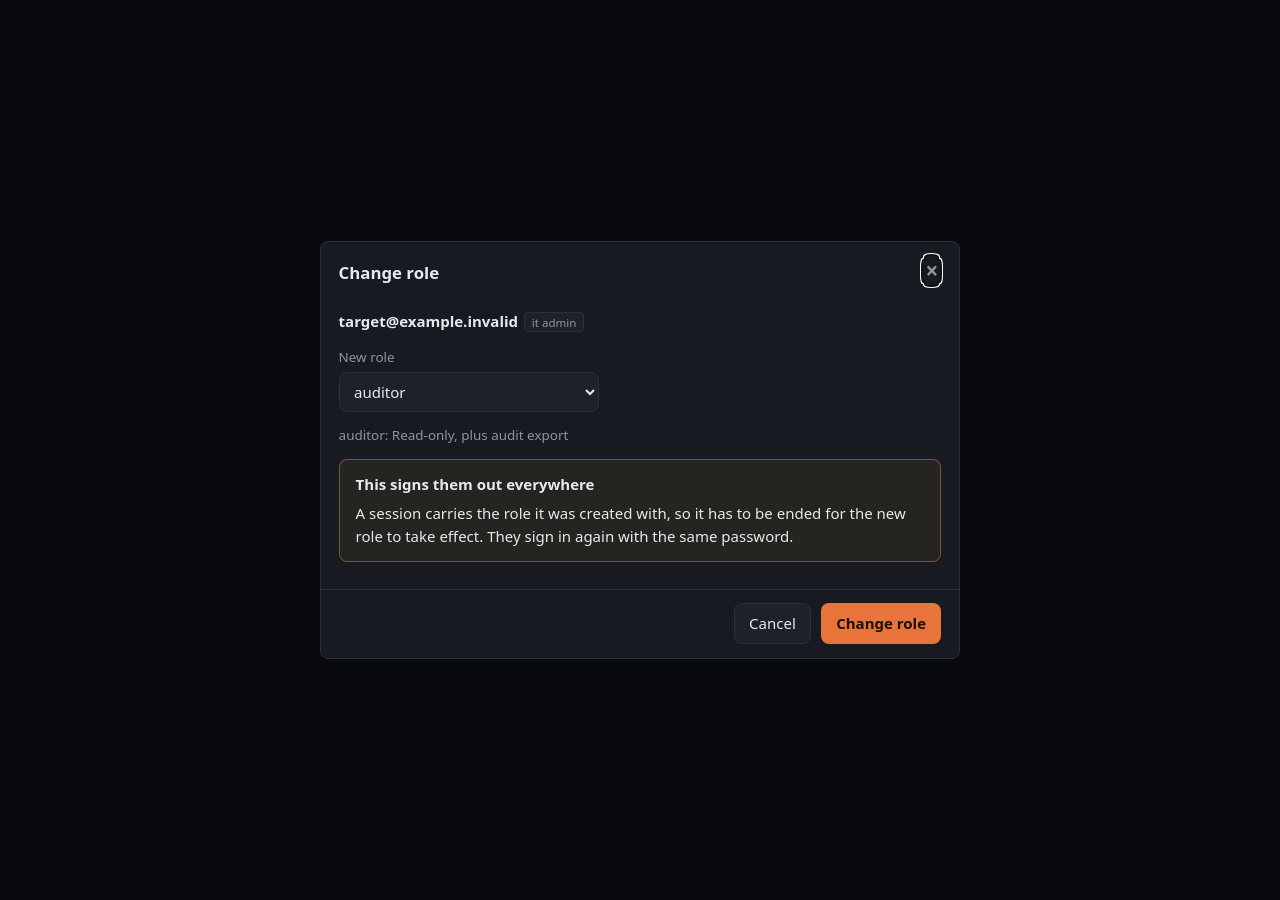
Test case: UserActionsDialog › change role › notes what promotion to super_admin grants
The image size is (1280, 900).
Select "super admin" in the dropdown labelled "New role" at (469, 392), box [339,372,599,412]
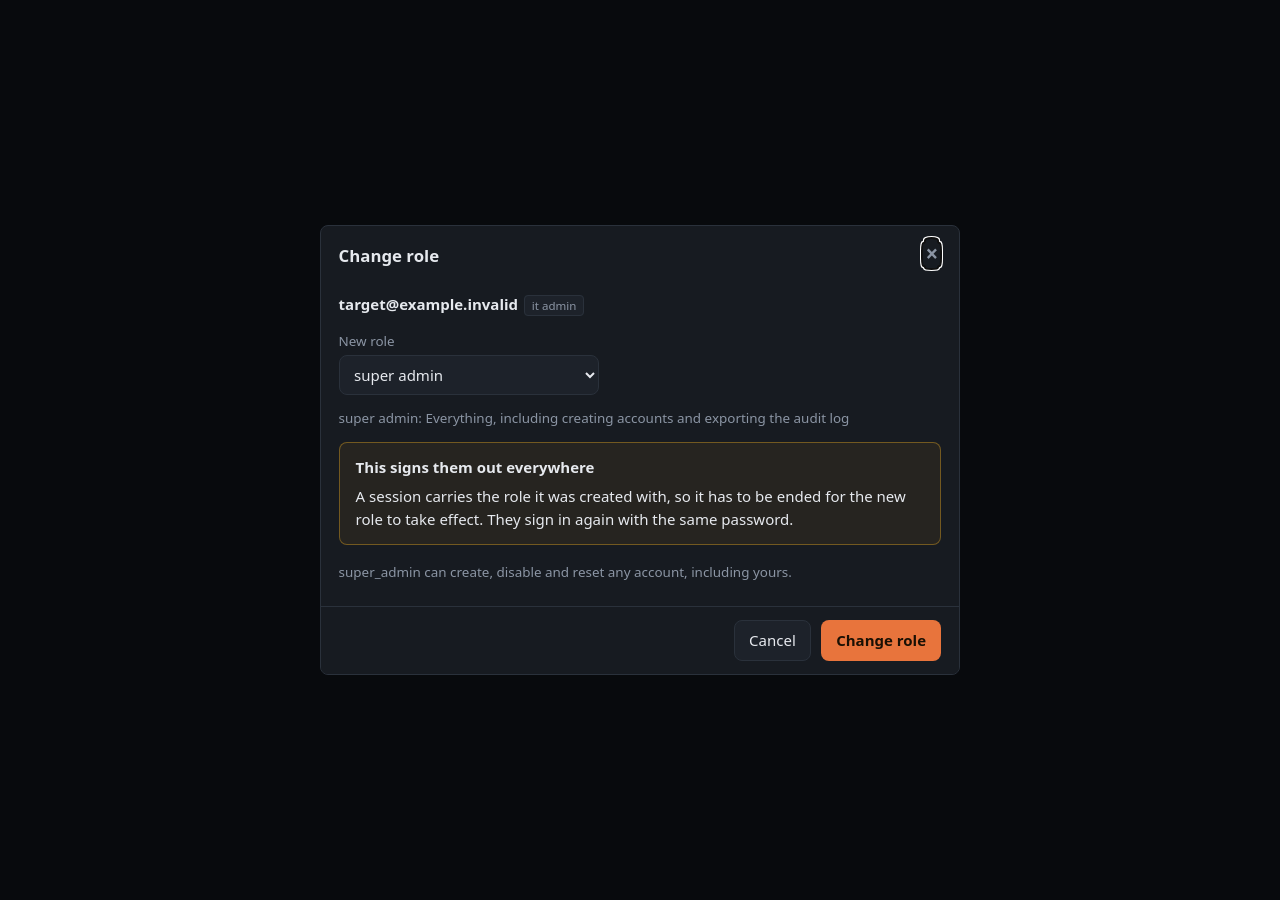
Expected: the text "including yours" is shown, [339,563,792,581]
